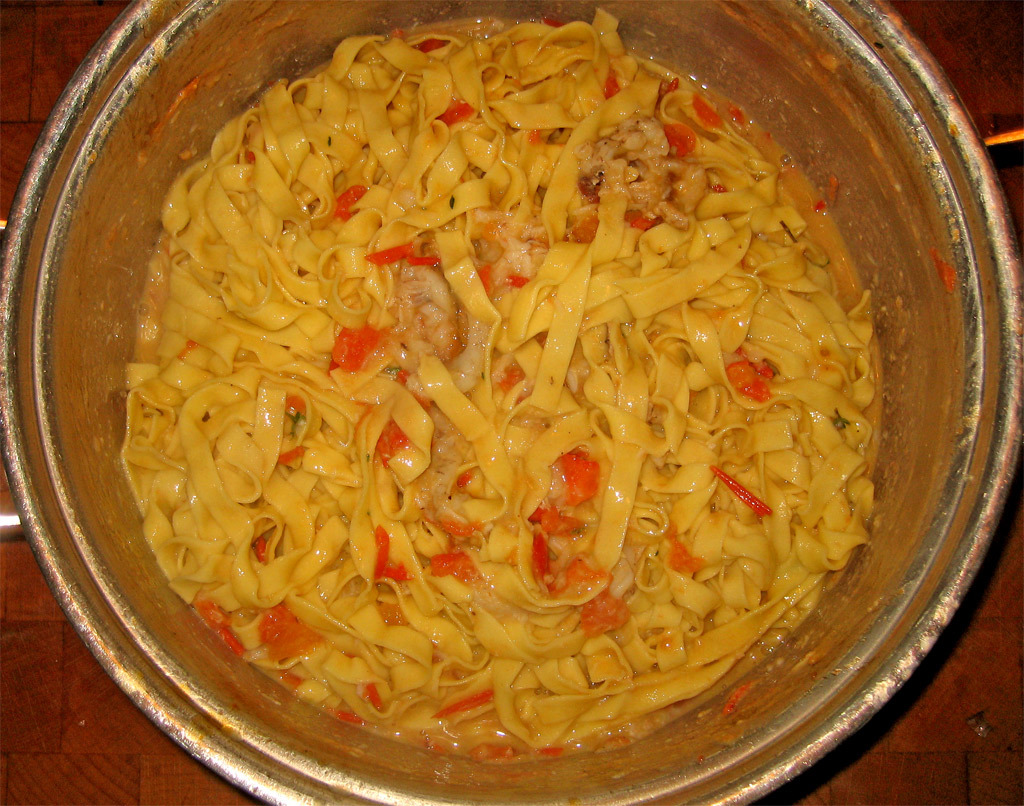pasta: (149, 45, 856, 706)
